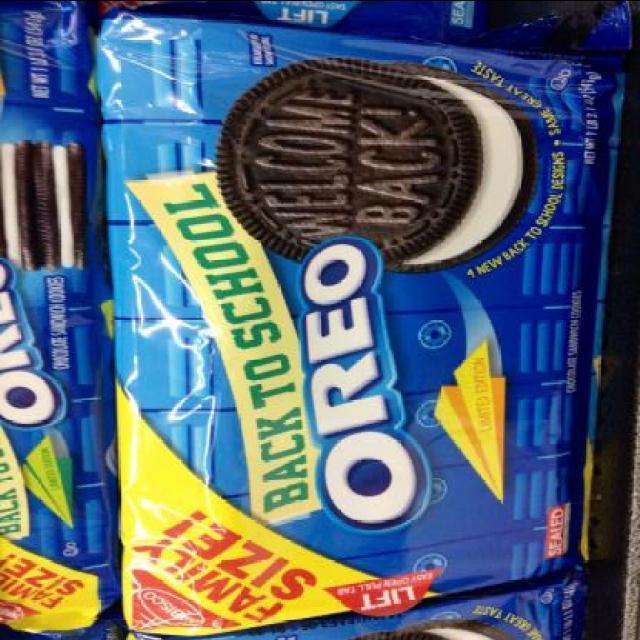Cookie: (208, 54, 540, 274), (0, 138, 86, 272), (350, 612, 518, 640)
